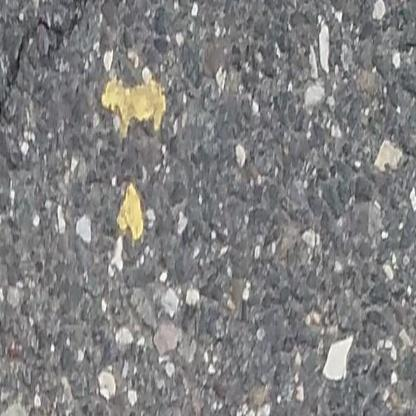Cracks: (0, 0, 112, 160)
